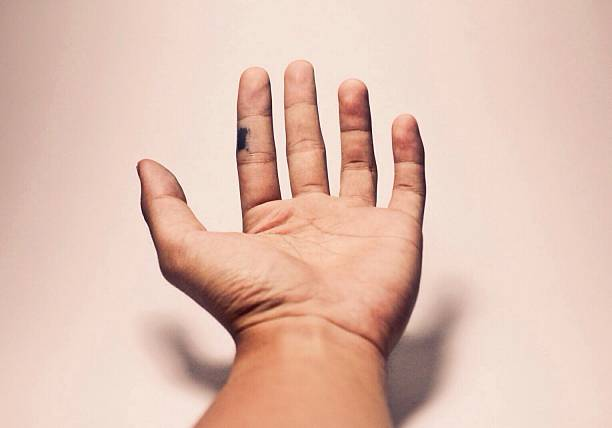hand: (91, 39, 494, 355)
